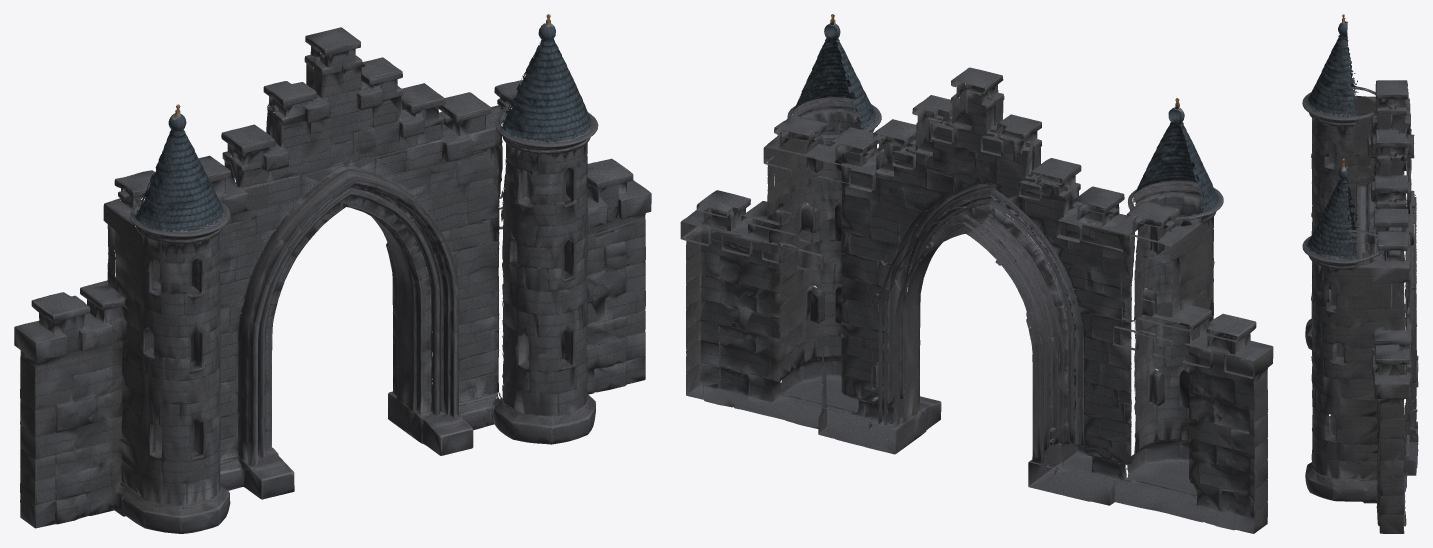
The model's file is gothic_gate.glb.
3 views of the same model, side by side, from view 1: azimuth 30°, elevation 25°; view 2: azimuth 150°, elevation 25°; view 3: azimuth 270°, elevation 25° (orthographic). The views are drawn at different scales.
Bounding box in the file's own units: 1.9 × 1.22 × 0.3888.
1 material, 1 textured.
